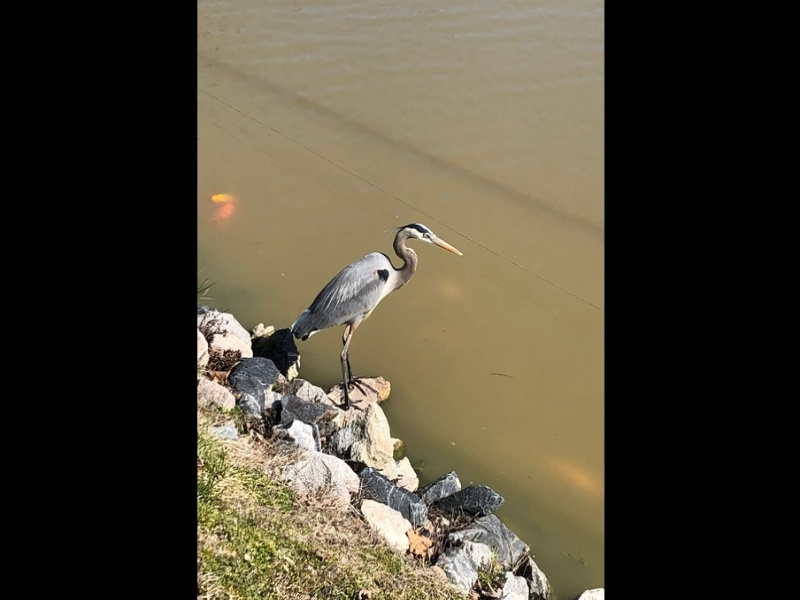heron: (290, 215, 464, 419)
